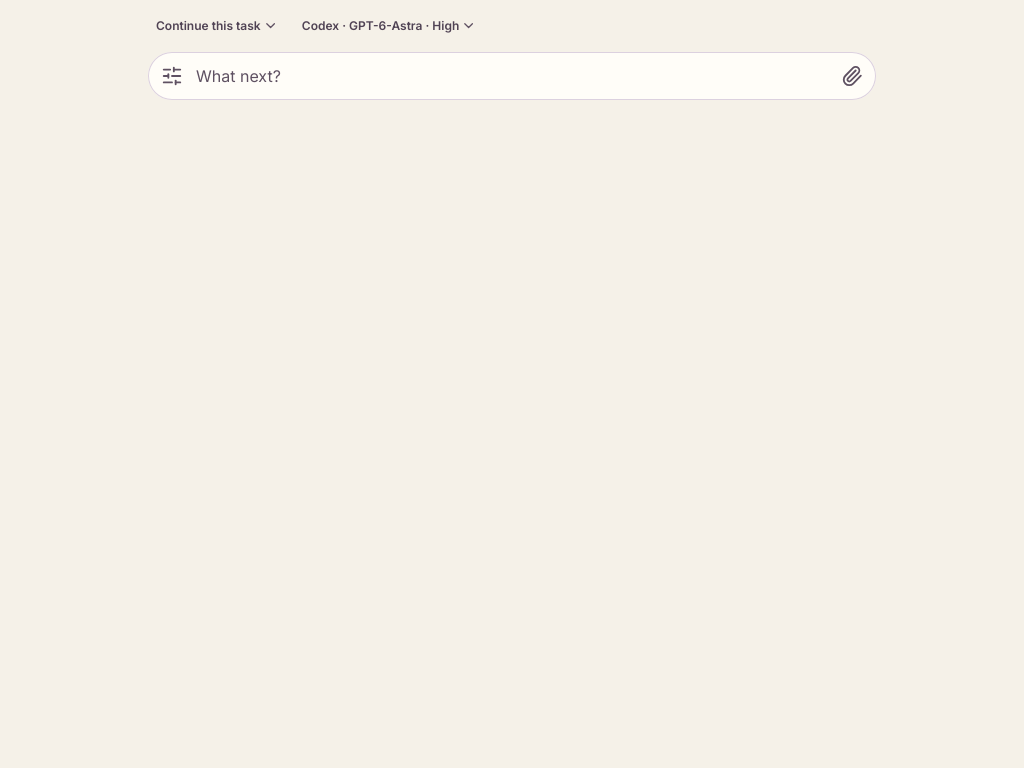
Test case: clears a carry-out notice when the intent changes
This screenshot has width=1024, height=768.
Step 1. Click the button "Continue this task" → (217, 26), box [148, 8, 286, 44]
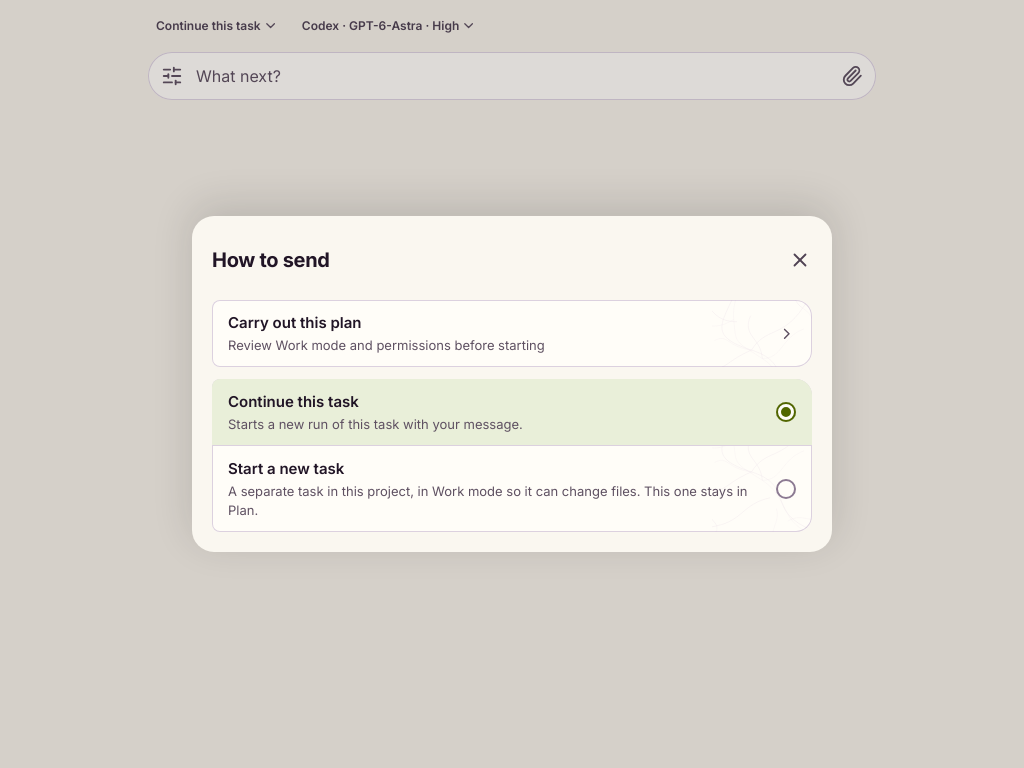
Step 2. Click the button "Carry out this plan" → (295, 323), box [212, 300, 812, 367]
Wait 500 ms
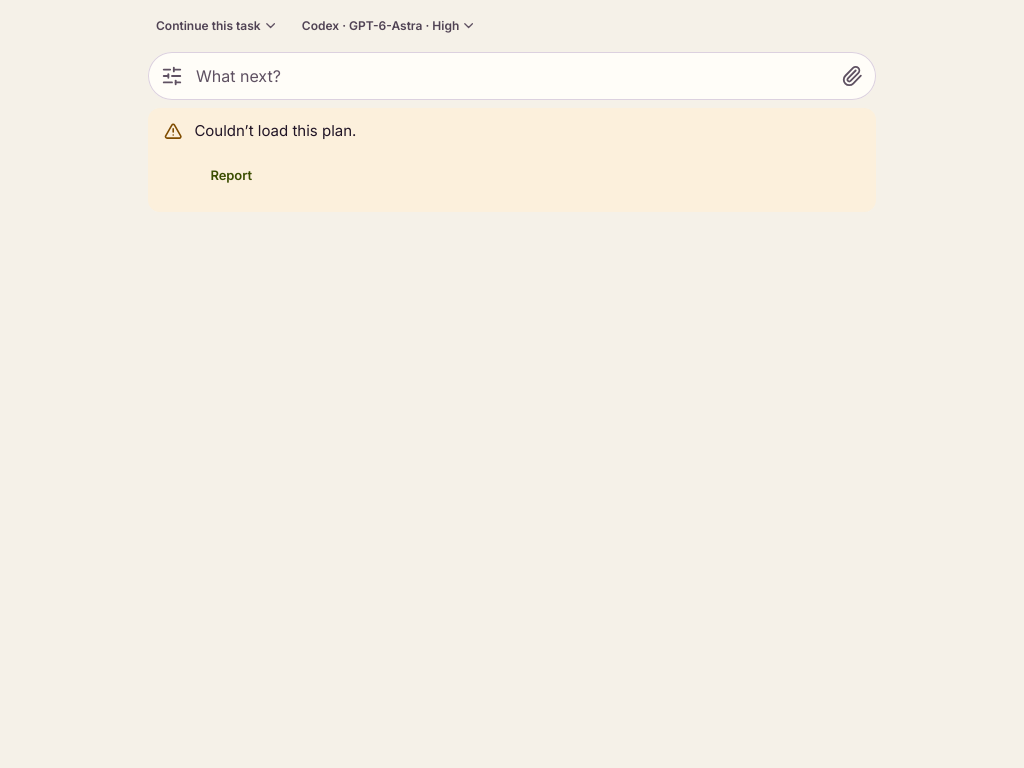
Result: the text "Couldn’t load this plan." is shown at [194, 121, 356, 140]
Step 3. Click the button "Continue this task" → (217, 26), box [148, 8, 286, 44]
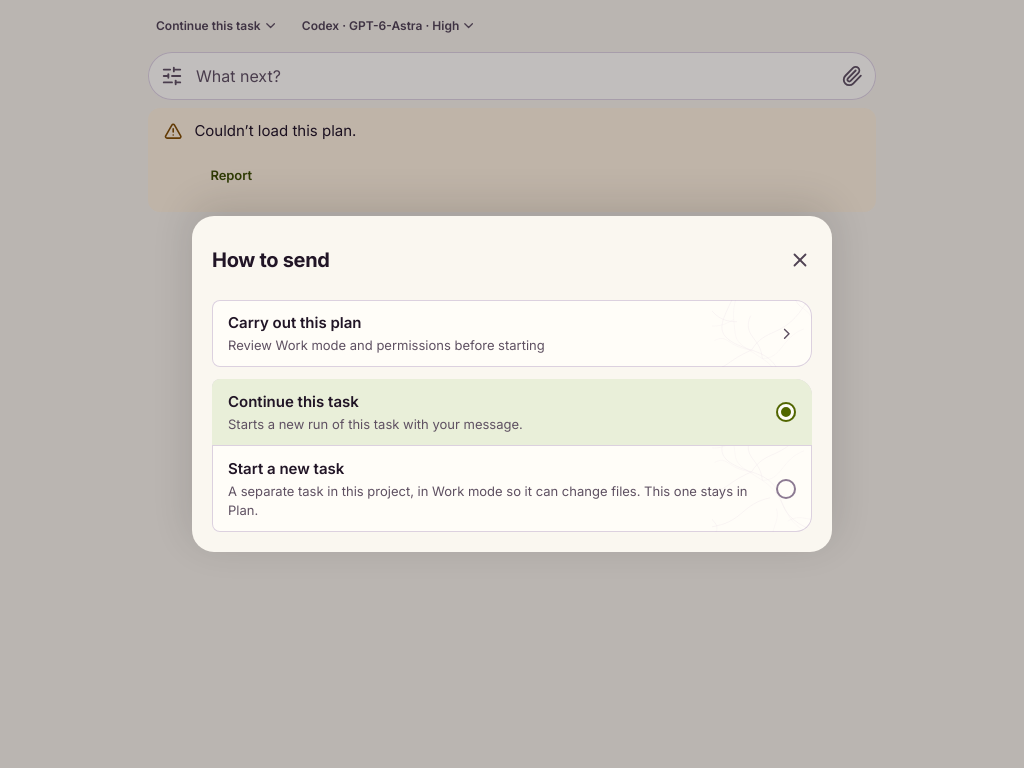
Step 4. Click the radio button labelled "Start a new task" → (512, 489), box [212, 445, 812, 532]
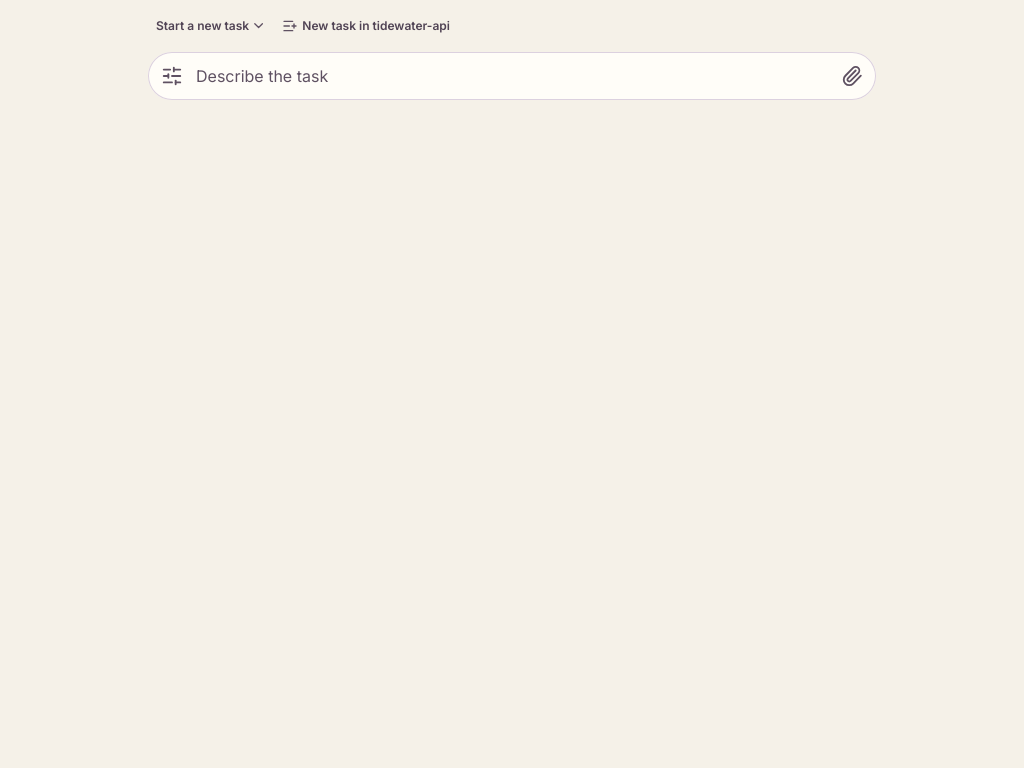
Result: the text "Couldn’t load this plan." is gone
